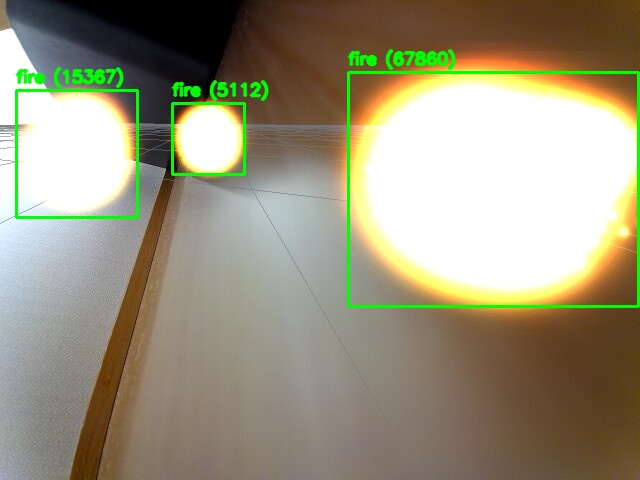fire: (348, 72, 638, 306), (16, 90, 137, 217), (172, 103, 244, 174)
